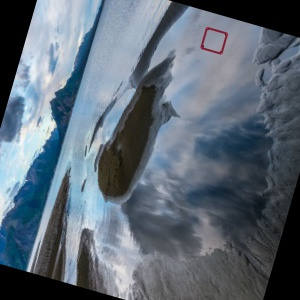square: (199, 26, 229, 56)
